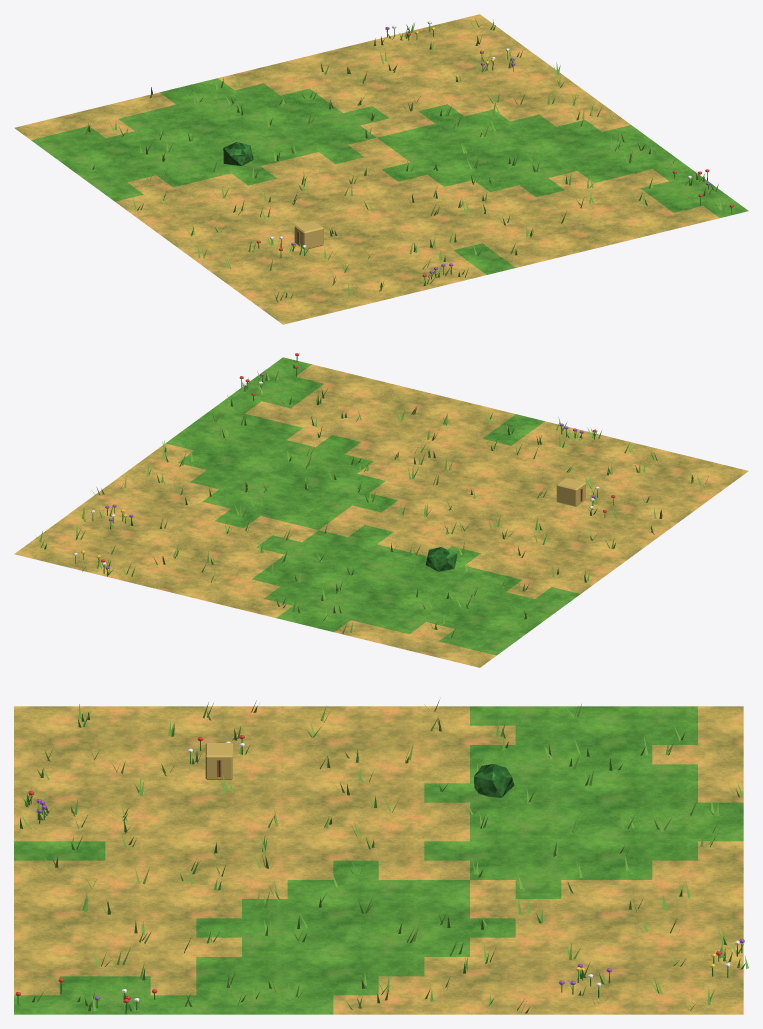
The model's file is chunk_9_12.glb.
3 views of the same model, one above another, from view 1: azimuth 30°, elevation 25°; view 2: azimuth 150°, elevation 25°; view 3: azimuth 270°, elevation 25° (orthographic). The views are drawn at different scales.
Parts seen in each view (by area): view 1: chunk_9_12; view 2: chunk_9_12; view 3: chunk_9_12.
Part boxes in pixels (left/top/right/bottom): chunk_9_12: left=14, top=14, right=748, bottom=324; chunk_9_12: left=14, top=353, right=748, bottom=667; chunk_9_12: left=14, top=700, right=748, bottom=1014.
Bounding box in the file's own units: 16.07 × 0.7989 × 16.12.
Materials: 11 (5 with a texture image).
